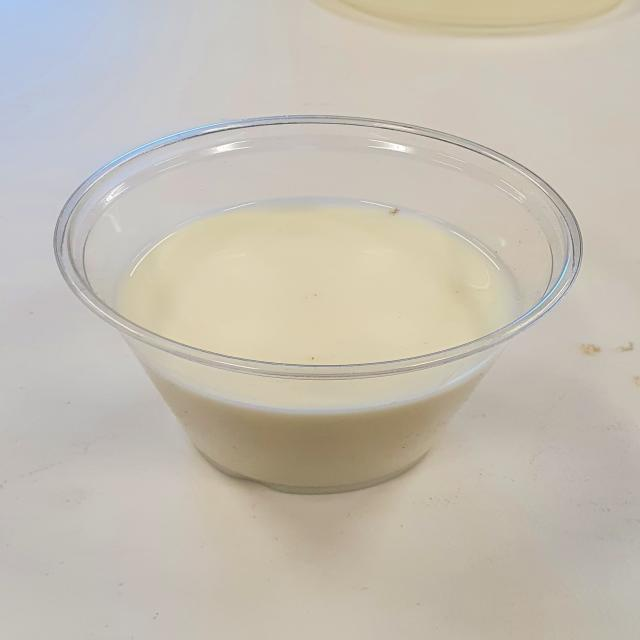Milk carton/jug: (49, 98, 616, 490)
